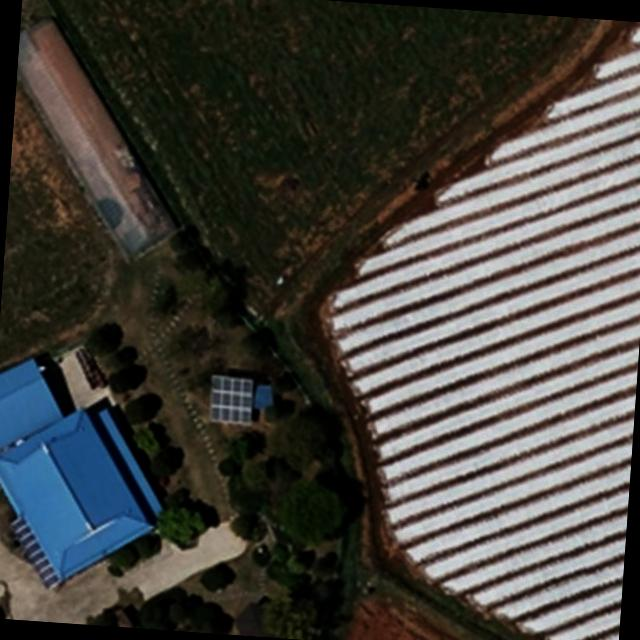solar: (206, 372, 260, 427)
